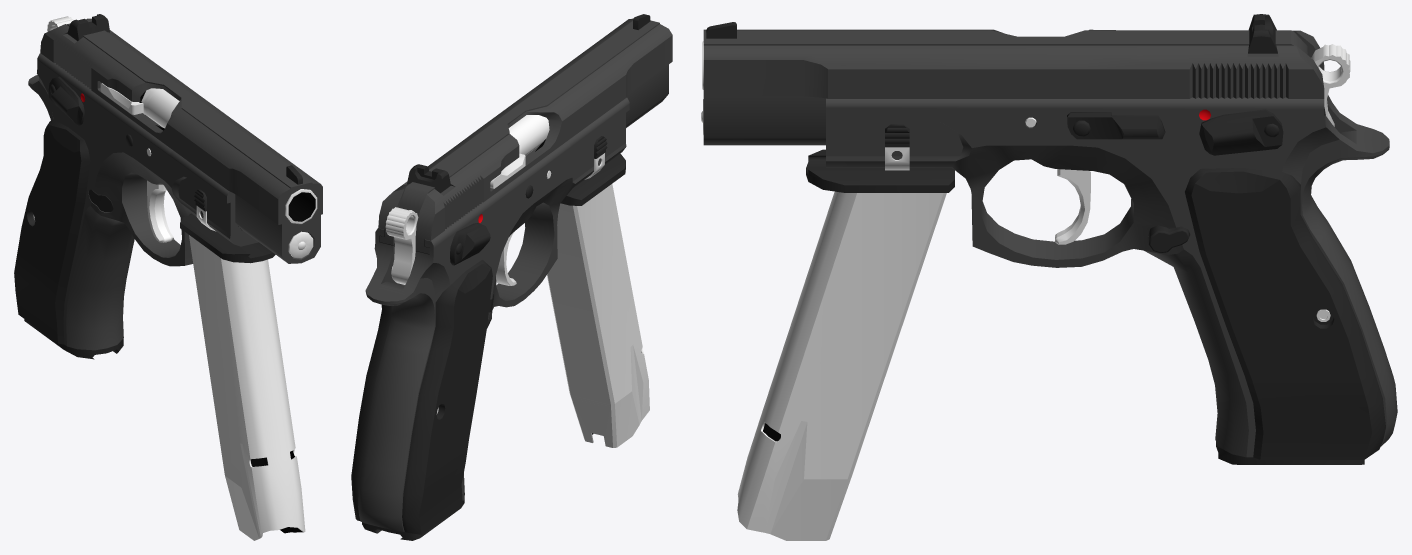
Rendered from low_poly_firearm_cz75_auto_9mm_free.glb.
3 renders of one model, left to right at view 1: azimuth 30°, elevation 25°; view 2: azimuth 150°, elevation 25°; view 3: azimuth 270°, elevation 25°, orthographic. The views are drawn at different scales.
Visible parts, largest first — view 1: base, mag.001, slide, safety, mag; view 2: base, slide, mag.001, hammer, safety, mag; view 3: base, slide, mag.001, safety, sliderealise, hammer, mag.
Boxes of the visible parts, box(x1,y1,x2,y2) form: base: box(14, 53, 317, 350); mag.001: box(180, 214, 305, 540); slide: box(40, 14, 322, 263); safety: box(48, 76, 84, 125); mag: box(24, 319, 123, 359); base: box(351, 97, 629, 534); slide: box(378, 14, 672, 254); mag.001: box(547, 153, 649, 447); hammer: box(385, 207, 418, 284); safety: box(450, 223, 490, 265); mag: box(362, 499, 464, 540); base: box(701, 41, 1397, 459); slide: box(703, 14, 1324, 145); mag.001: box(737, 149, 954, 540); safety: box(1199, 109, 1283, 155); sliderealise: box(1067, 112, 1165, 139); hammer: box(1311, 44, 1350, 126); mag: box(1216, 442, 1364, 464).
Size of the model in its own units: 0.3023 by 1.37 by 1.7.
1 material, 1 textured.
